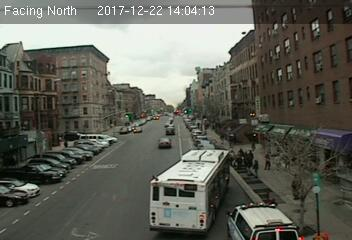bus: (147, 149, 231, 233)
car: (158, 137, 172, 149)
pedestrian: (252, 159, 260, 180), (264, 151, 271, 169)
police: (225, 200, 302, 240)
